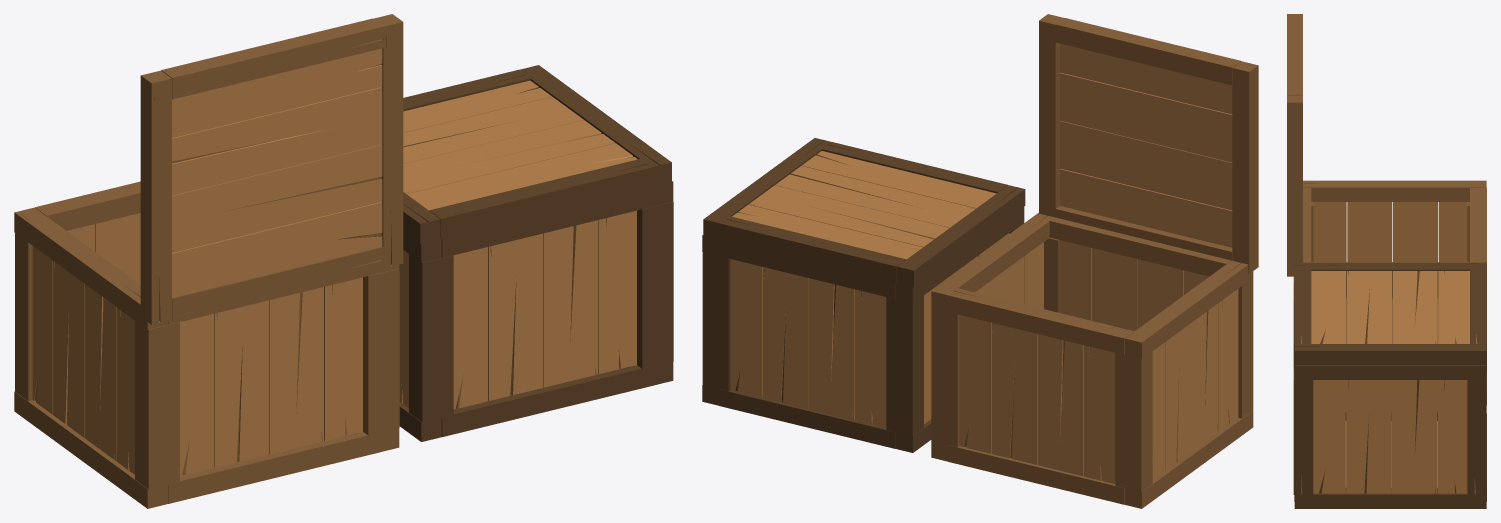
Rendered from WoodenCrate.fbx.
3 views of the same model, side by side, from view 1: azimuth 30°, elevation 25°; view 2: azimuth 150°, elevation 25°; view 3: azimuth 270°, elevation 25° (orthographic). The views are drawn at different scales.
Visible parts, largest first — view 1: WoodenCrate1, WoodenCrateLid1, WoodenCrate, WoodenCrateLid2; view 2: WoodenCrate1, WoodenCrateLid1, WoodenCrate, WoodenCrateLid2; view 3: WoodenCrate, WoodenCrateLid2, WoodenCrate1, WoodenCrateLid1.
Part boxes in pixels (x1,y1,x2,y2): WoodenCrate1: (14,181,399,508); WoodenCrateLid1: (140,14,403,324); WoodenCrate: (399,181,673,441); WoodenCrateLid2: (403,65,671,243); WoodenCrate1: (931,212,1253,508); WoodenCrateLid1: (1039,14,1258,273); WoodenCrate: (702,207,1024,452); WoodenCrateLid2: (703,138,1025,287); WoodenCrate: (1293,283,1486,508); WoodenCrateLid2: (1294,262,1486,364); WoodenCrate1: (1293,180,1486,405); WoodenCrateLid1: (1287,14,1302,276).
Size of the model in its own units: 13.47 by 10.5 by 6.14.
